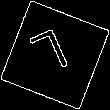L_SE: (31, 25, 79, 85)
